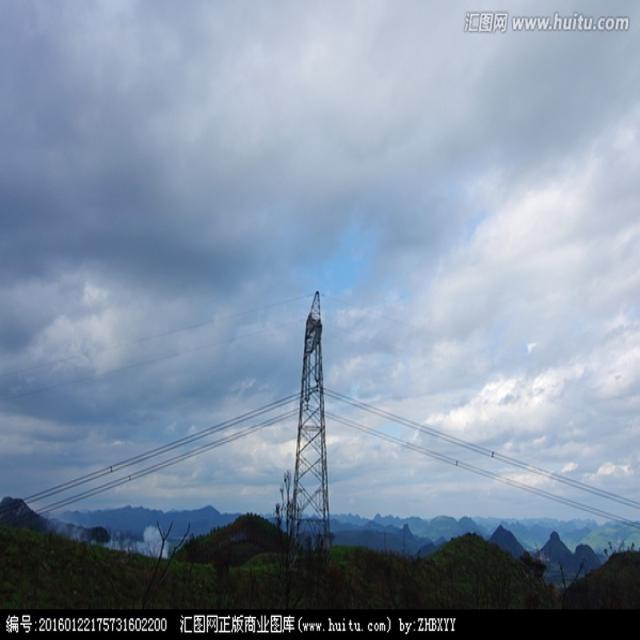non-critical vegetation: (291, 290, 337, 541)
